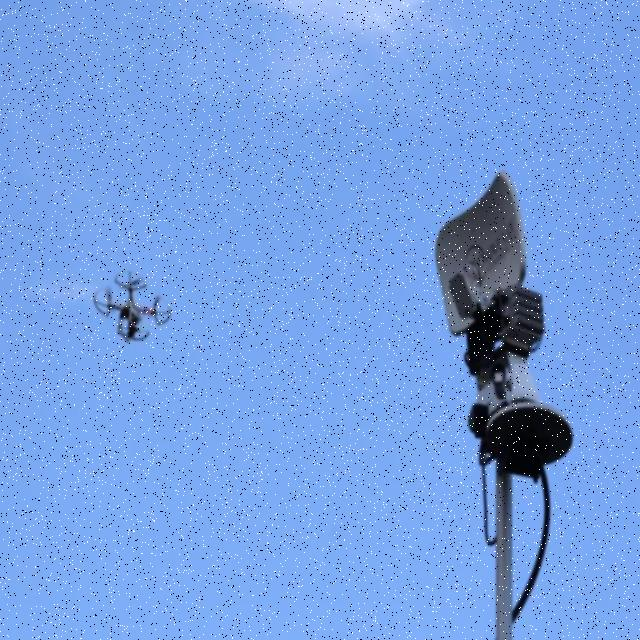UAV: (92, 270, 172, 345)
